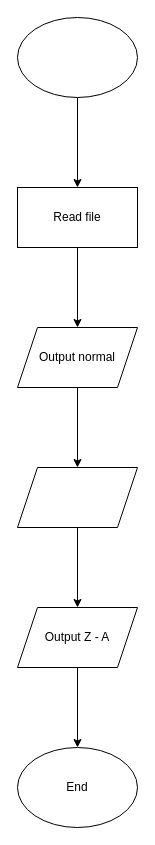
Some shapes in this 155 by 845 pixel diagram are drawn without their labels. The centre of each missing label's shape, as x and y in pixels:
"Output A - Z" goes at point (77, 497).
"Start" goes at point (77, 57).
